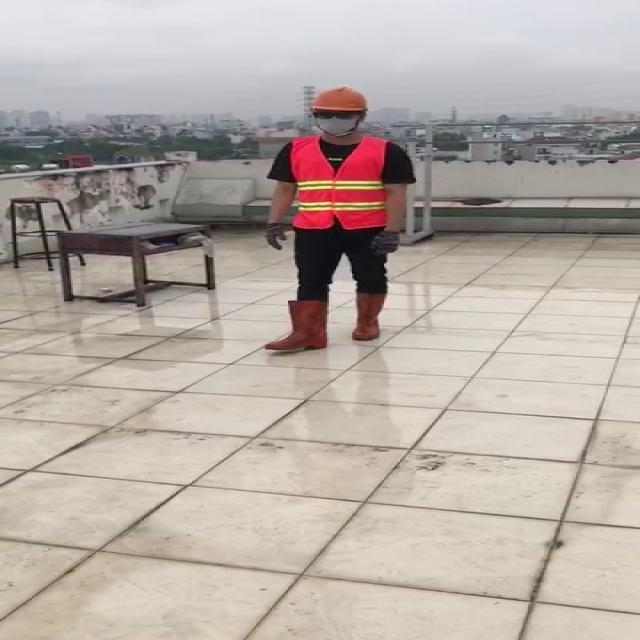gloves: (369, 228, 401, 255), (262, 223, 286, 251)
goggles: (313, 110, 361, 120)
helmet: (304, 84, 371, 113)
safety_vest: (291, 136, 387, 231)
